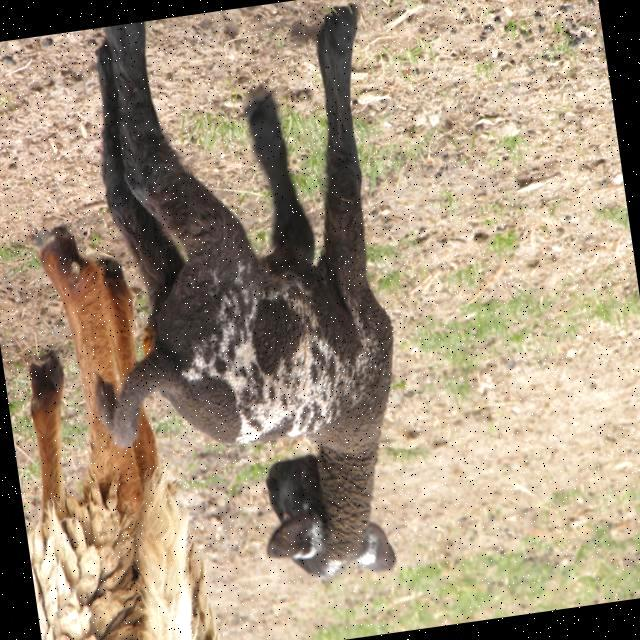sheep: (93, 6, 396, 577), (22, 230, 215, 640)
